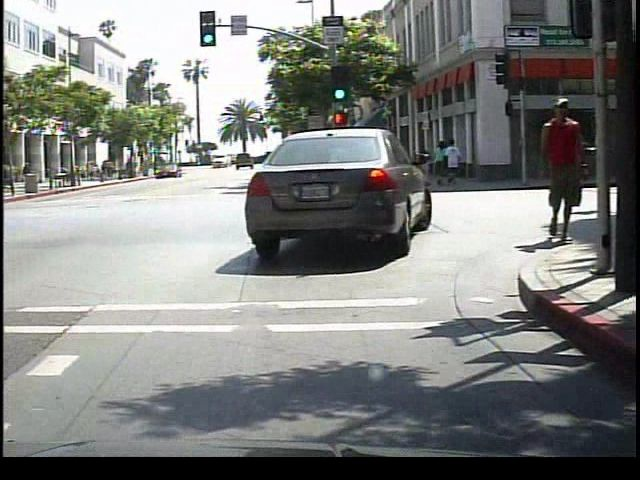person: (525, 91, 588, 253), (15, 157, 33, 189)
